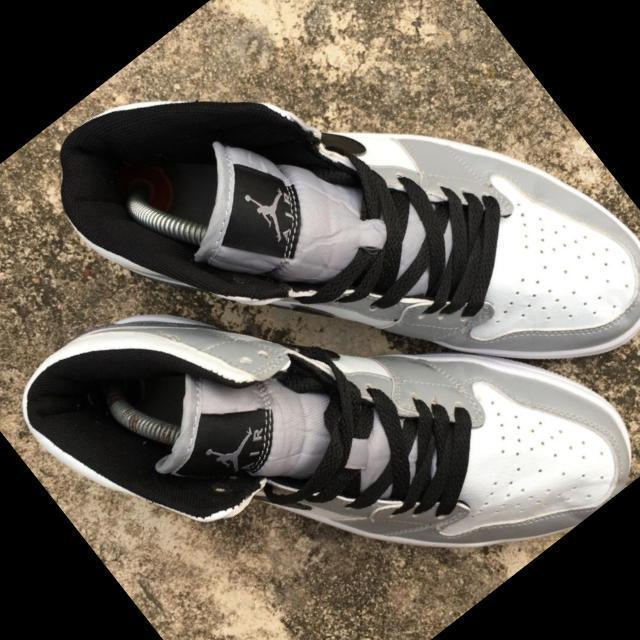nike fake jordan 1: (0, 90, 640, 640), (32, 0, 640, 563)
